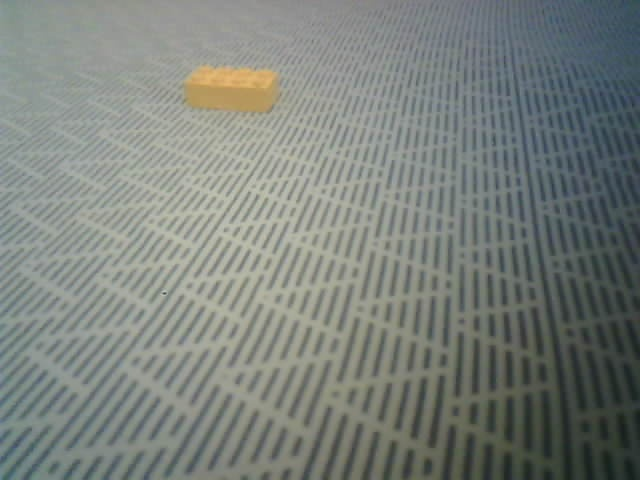lego: (183, 65, 281, 113)
